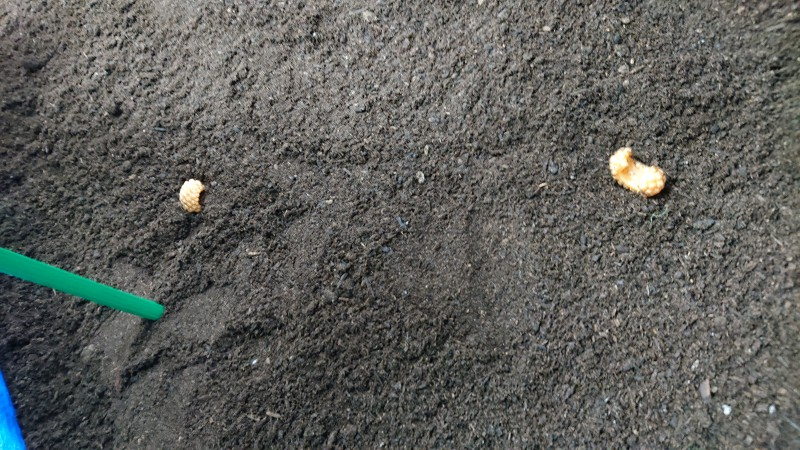eggs: (605, 143, 670, 198), (175, 176, 205, 217)
